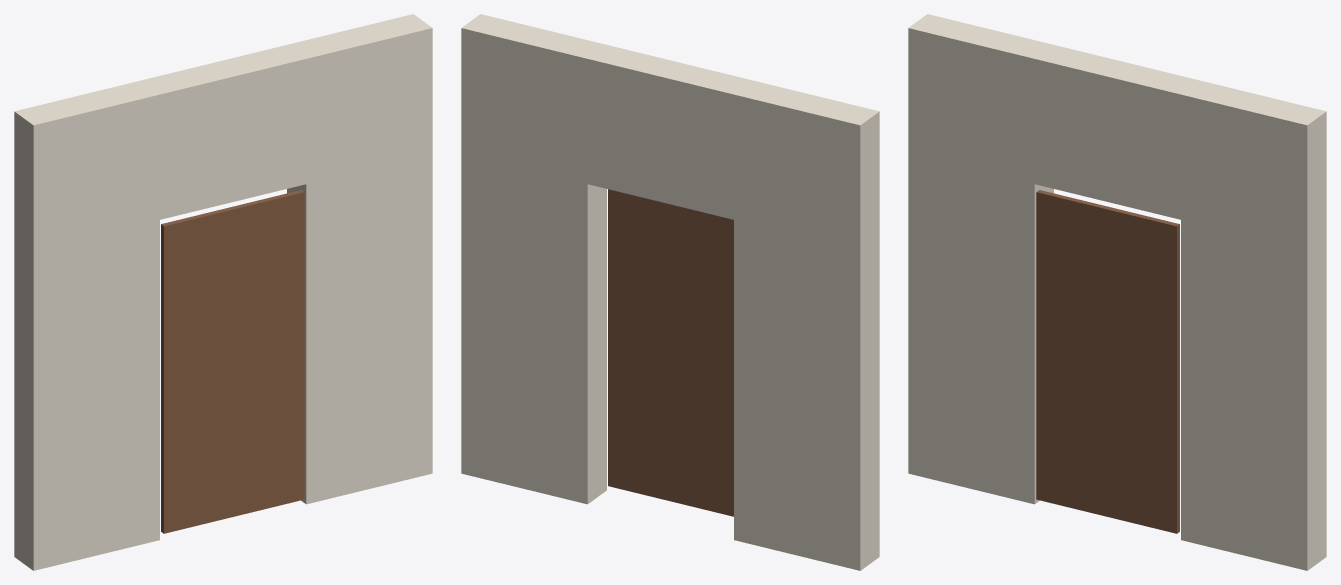
Rendered from bh_villa_wall_door_01_lod0.glb.
3 views of the same model, side by side, from view 1: azimuth 30°, elevation 25°; view 2: azimuth 150°, elevation 25°; view 3: azimuth 330°, elevation 25° (orthographic).
Visible parts, largest first — view 1: bh_villa_wall_door_01_left, bh_villa_wall_door_01_right, bh_villa_wall_door_01_infill, bh_villa_wall_door_01_top; view 2: bh_villa_wall_door_01_left, bh_villa_wall_door_01_right, bh_villa_wall_door_01_infill, bh_villa_wall_door_01_top; view 3: bh_villa_wall_door_01_right, bh_villa_wall_door_01_left, bh_villa_wall_door_01_infill, bh_villa_wall_door_01_top.
Boxes of the visible parts, x1,y1,x2,y2 form: bh_villa_wall_door_01_left: (14,80,159,570); bh_villa_wall_door_01_right: (287,14,432,504); bh_villa_wall_door_01_infill: (161,190,304,533); bh_villa_wall_door_01_top: (141,45,306,219); bh_villa_wall_door_01_left: (734,80,879,570); bh_villa_wall_door_01_right: (461,14,606,504); bh_villa_wall_door_01_infill: (608,189,733,516); bh_villa_wall_door_01_top: (587,45,752,219); bh_villa_wall_door_01_right: (1181,80,1326,570); bh_villa_wall_door_01_left: (908,14,1053,504); bh_villa_wall_door_01_infill: (1036,190,1179,533); bh_villa_wall_door_01_top: (1034,45,1199,219).
Size of the model in its own units: 3 by 3.2 by 0.265.
